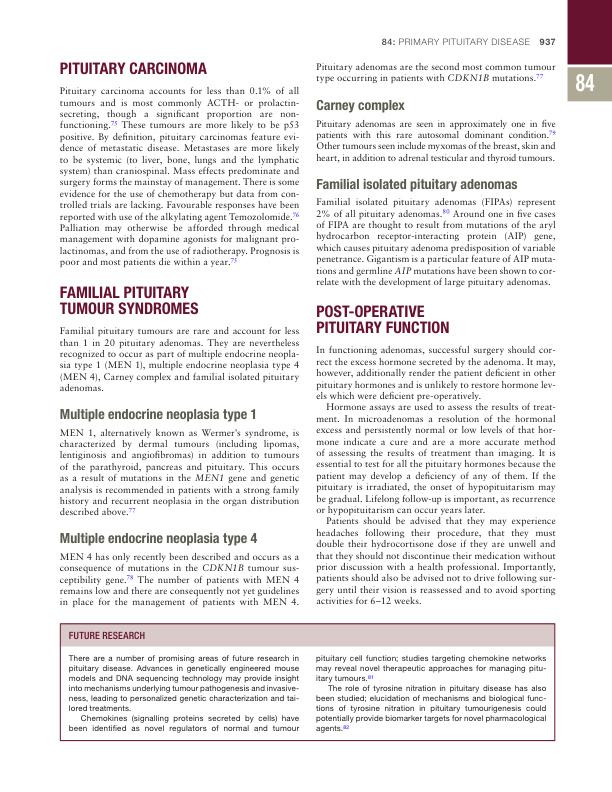caption: (68, 631, 146, 640)
header: (381, 36, 532, 47)
section-heading: (57, 284, 200, 316), (315, 303, 451, 335), (59, 61, 209, 76)
sub-section-heading: (59, 531, 259, 548), (315, 176, 518, 192), (59, 407, 258, 423), (315, 98, 406, 114)
text: (314, 344, 557, 606), (58, 85, 301, 268), (315, 196, 557, 289), (59, 427, 301, 517), (315, 654, 547, 734), (67, 653, 300, 732), (58, 325, 300, 393), (59, 551, 300, 608), (315, 119, 557, 164), (314, 61, 556, 85)
